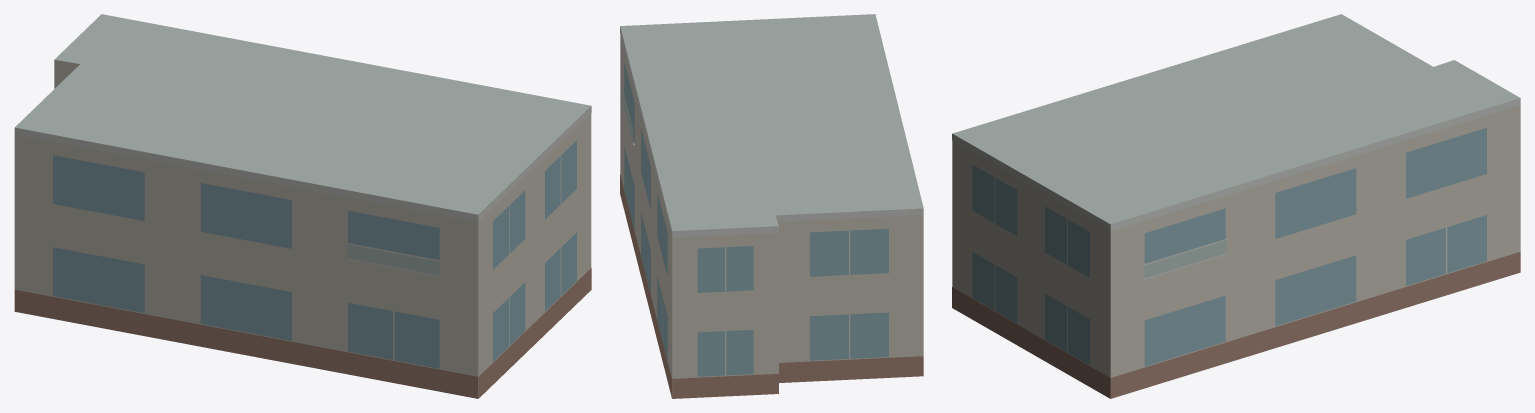
Rendered from survey-upis-32711924.glb.
The picture shows the model from 3 angles, left to right: view 1: azimuth 30°, elevation 25°; view 2: azimuth 150°, elevation 25°; view 3: azimuth 270°, elevation 25°; orthographic projection. The views are drawn at different scales.
Parts seen in each view (by area): view 1: survey-upis-32711924.tmp; view 2: survey-upis-32711924.tmp; view 3: survey-upis-32711924.tmp.
Boxes of the visible parts, x1,y1,x2,y2 form: survey-upis-32711924.tmp: (14,14,591,398); survey-upis-32711924.tmp: (620,14,923,398); survey-upis-32711924.tmp: (952,14,1520,398).
Bounding box in the file's own units: 15.79 × 6.1 × 18.02.
